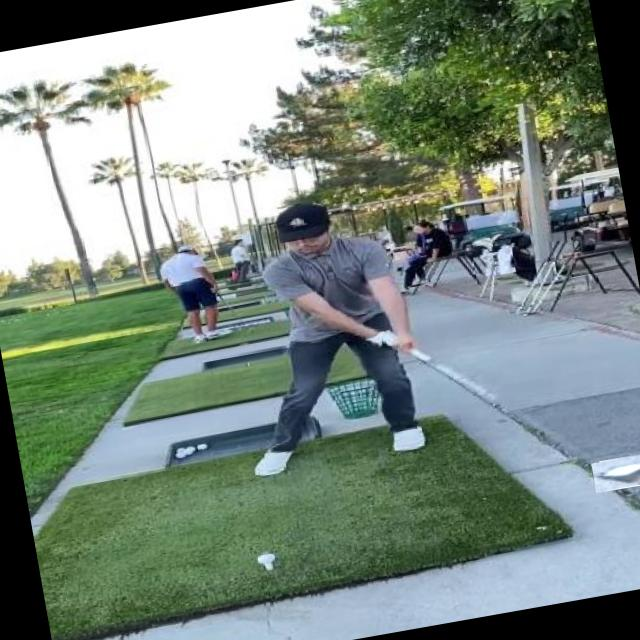club head: (591, 451, 640, 493)
